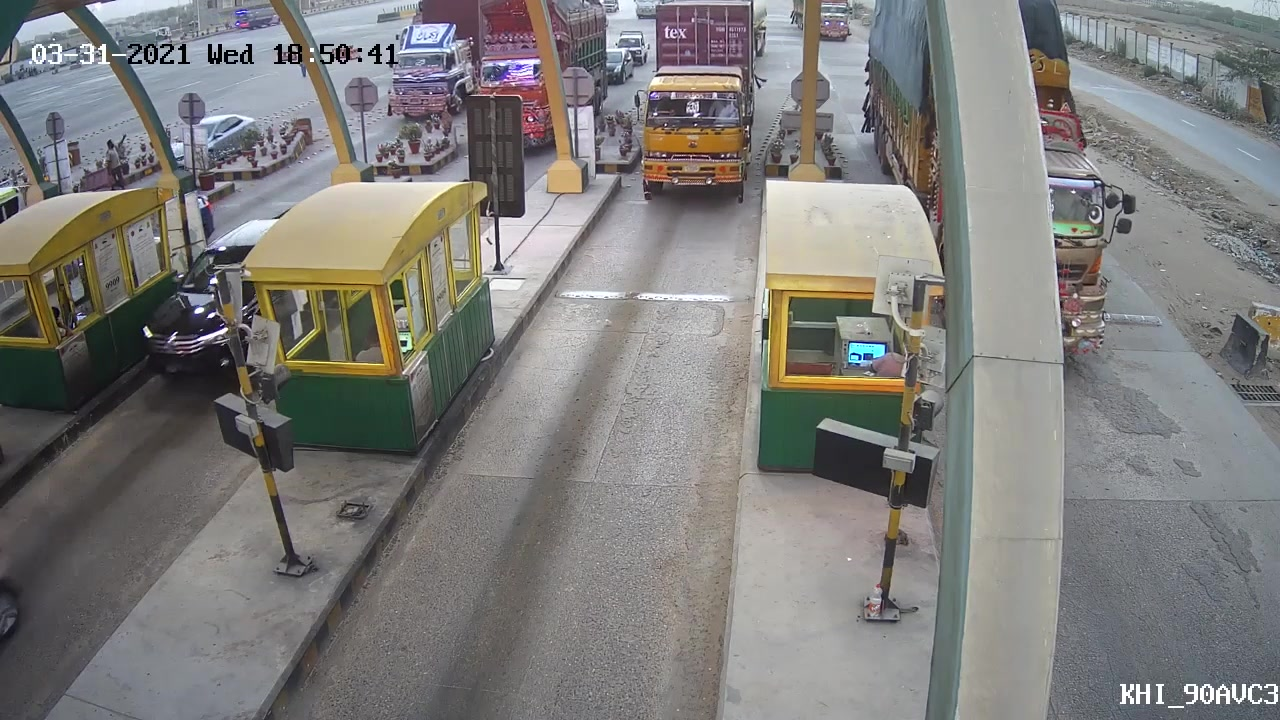F6: (630, 1, 765, 211)
